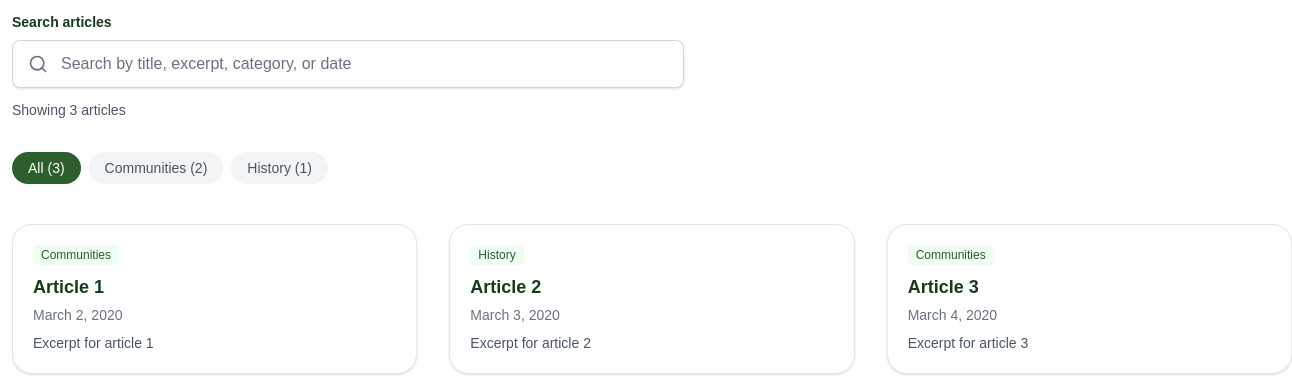
Test case: ArticlesList › filters by category chips and shows per-category counts
The image size is (1292, 392).
# 2 odd-numbered articles are Communities, 1 even is History
Click the button "Communities (2)". click: coordinates (156, 168)
box: [89,152,223,184]
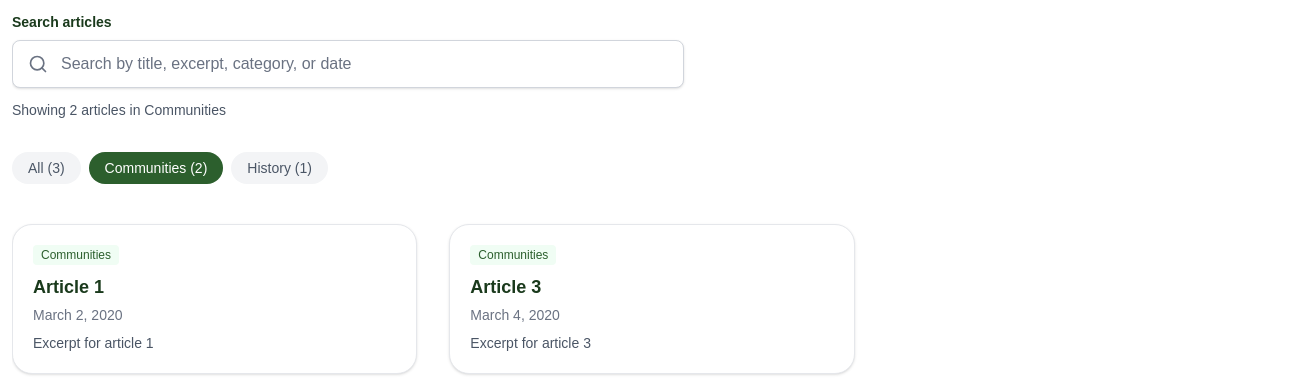
Check: the heading "Article 1" is shown, box [33,277,104,297]
Check: the link "Article 2" is gone
